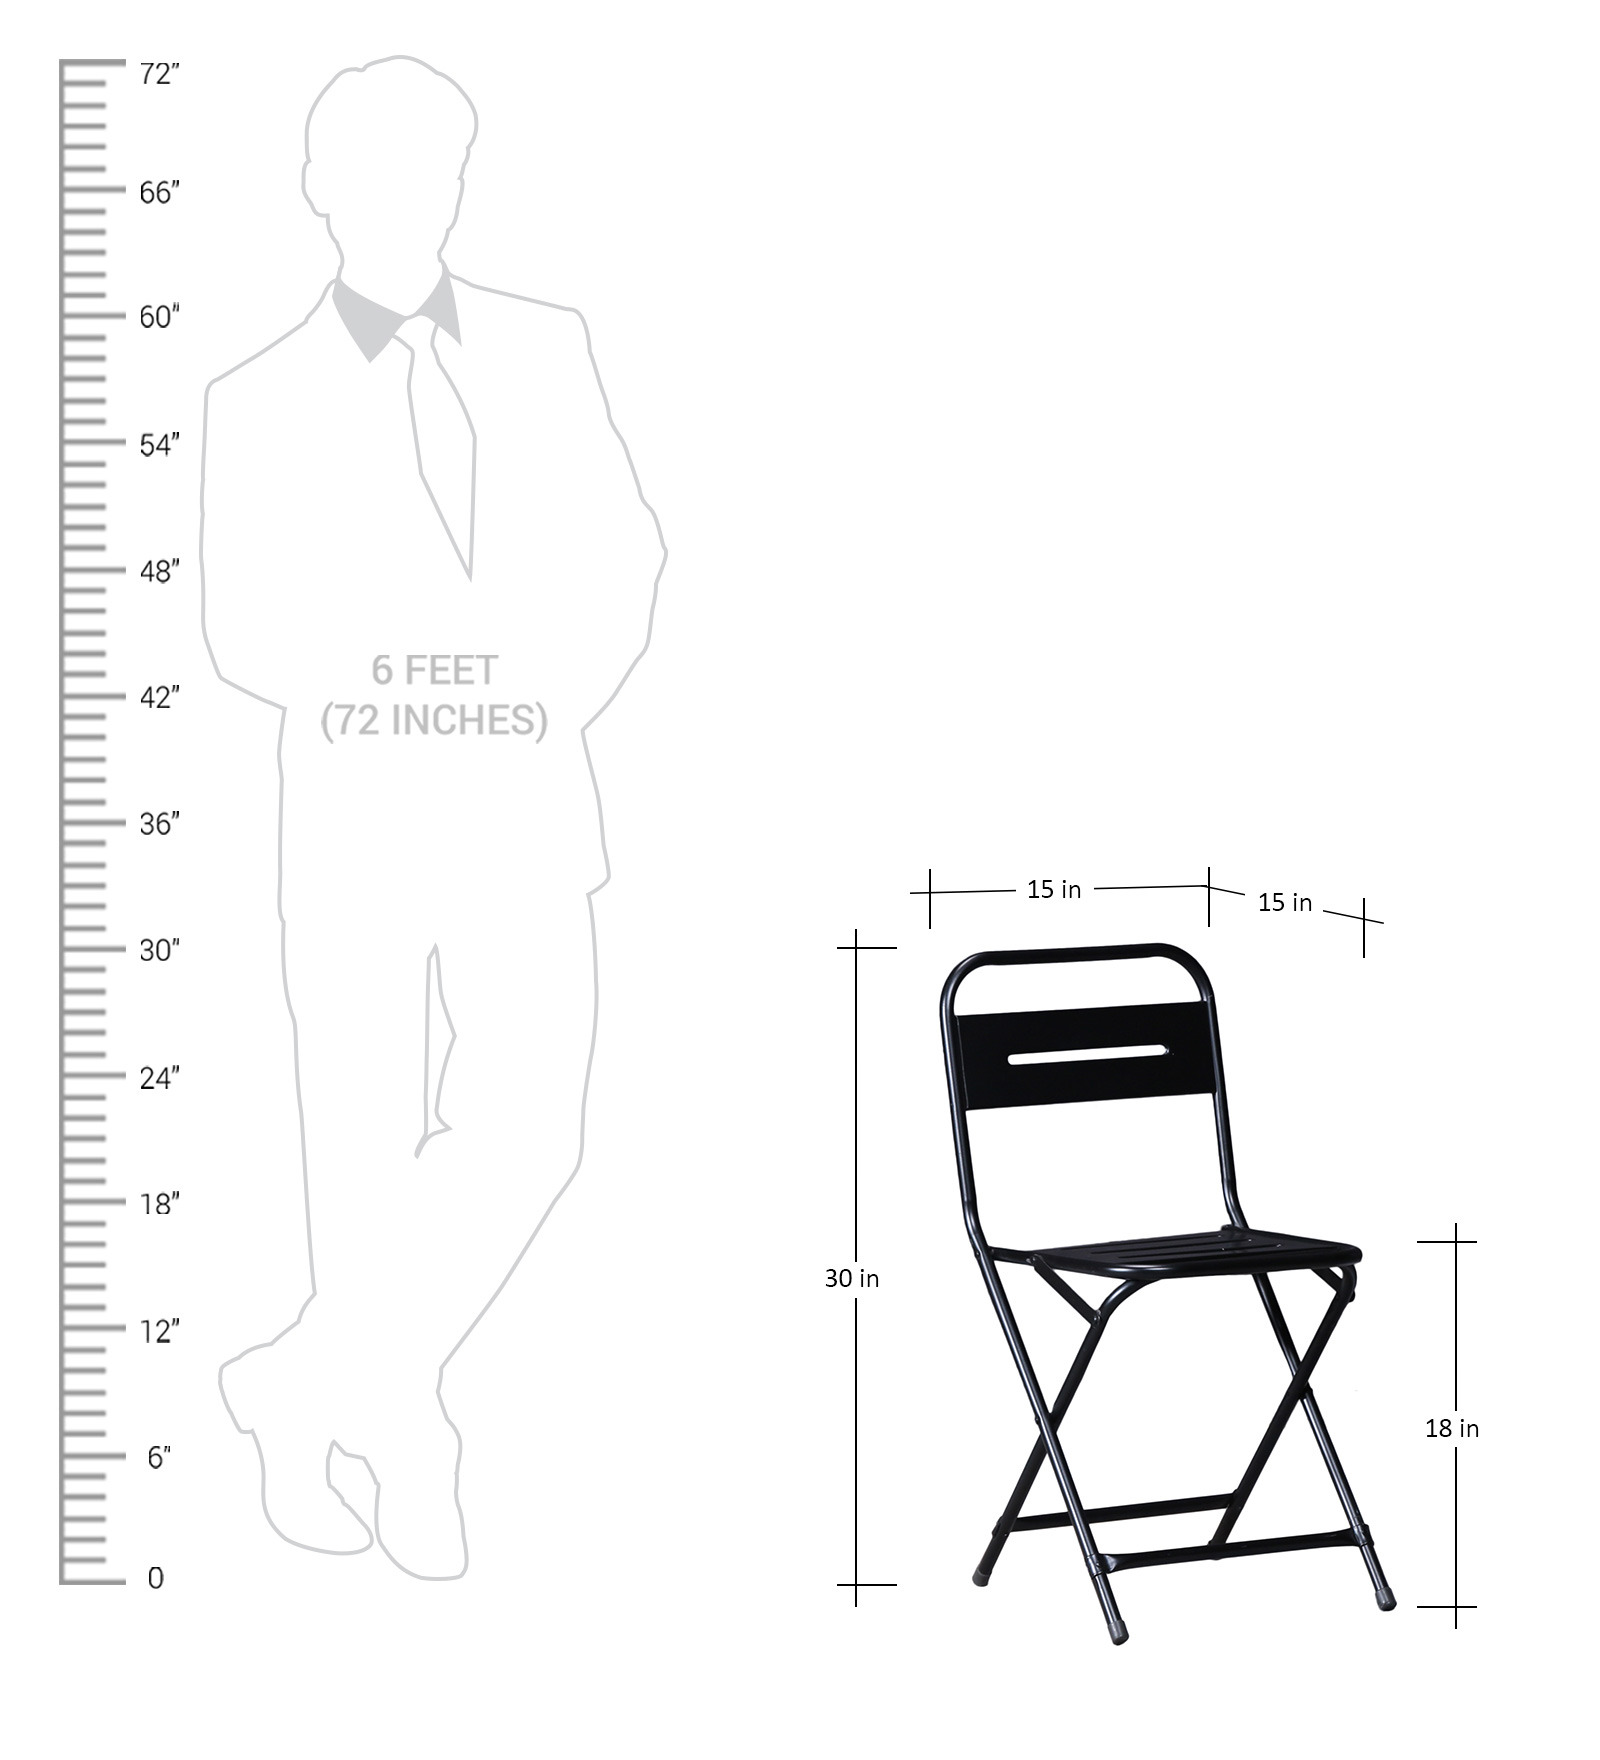Marandoo Grunge Black Outdoor Folding Chair by Bohemiana: (926, 935, 1395, 1640)
